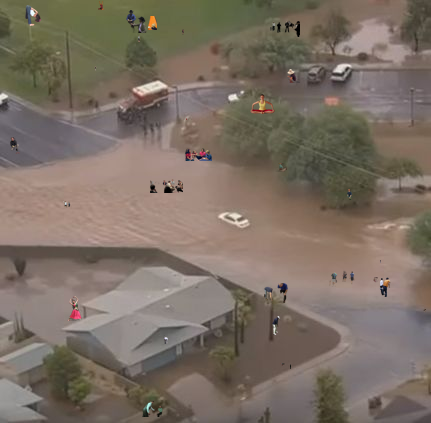Human: (272, 316, 299, 335), (270, 20, 300, 37), (250, 94, 275, 114), (328, 269, 355, 287), (126, 10, 147, 33), (264, 283, 288, 303), (150, 179, 183, 193), (67, 296, 82, 321), (373, 277, 391, 297), (185, 148, 212, 161), (142, 401, 163, 417), (25, 5, 41, 26), (287, 69, 300, 83), (10, 137, 20, 154), (127, 34, 142, 43), (148, 16, 157, 30), (275, 163, 287, 172), (63, 201, 71, 208), (347, 189, 352, 200), (98, 1, 104, 10), (163, 335, 168, 344), (279, 363, 286, 366), (94, 66, 97, 71), (182, 29, 184, 35), (116, 249, 119, 253), (423, 309, 426, 312), (290, 364, 291, 369), (186, 118, 187, 122), (380, 260, 381, 263), (218, 342, 219, 345), (166, 102, 167, 103)
